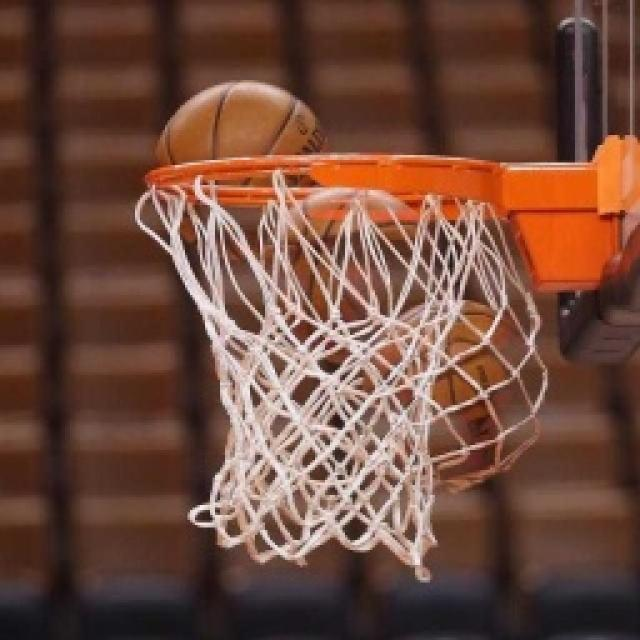rim: (148, 72, 334, 260), (376, 294, 538, 495), (268, 181, 437, 361)
